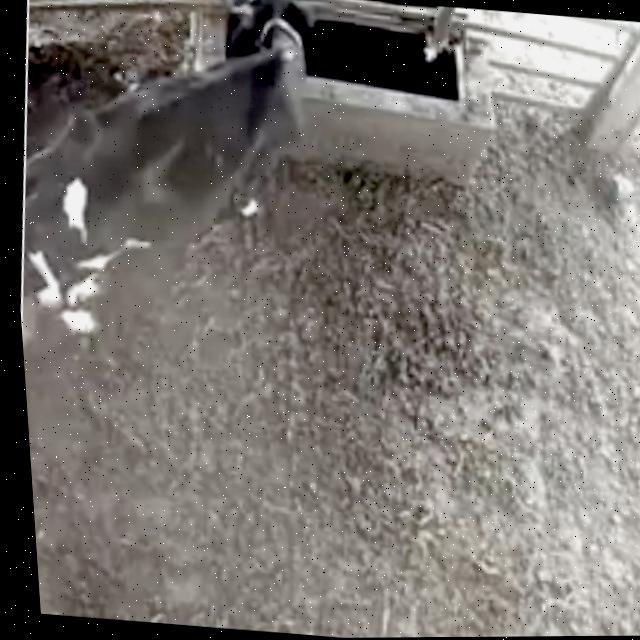drink: (200, 0, 355, 113)
